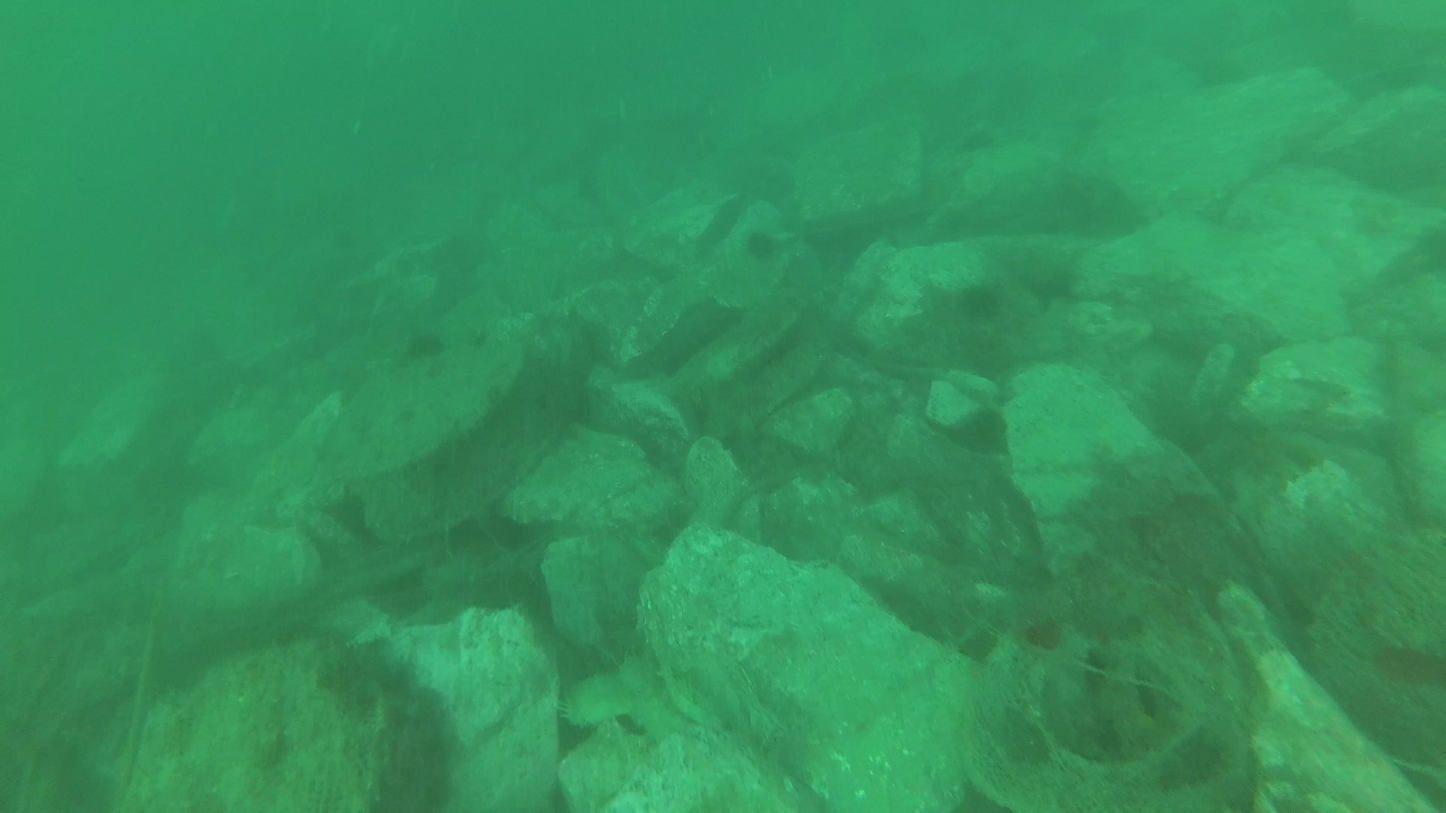starfish: (960, 281, 1000, 325), (403, 329, 449, 363)
